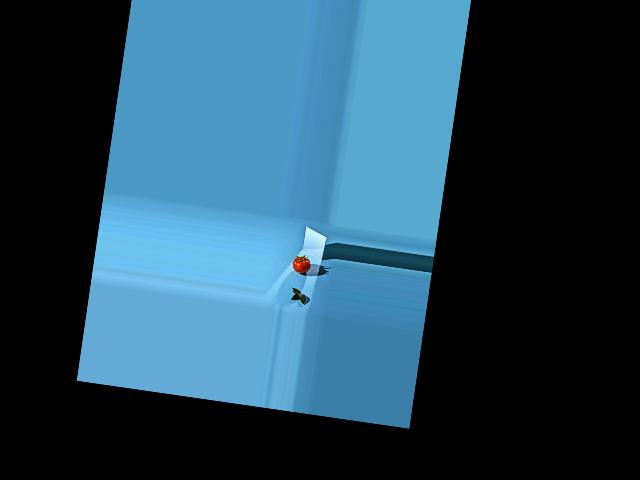tomato: (291, 255, 312, 274)
